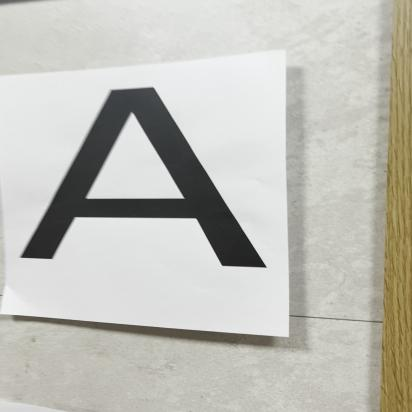seat: (13, 82, 284, 284)
